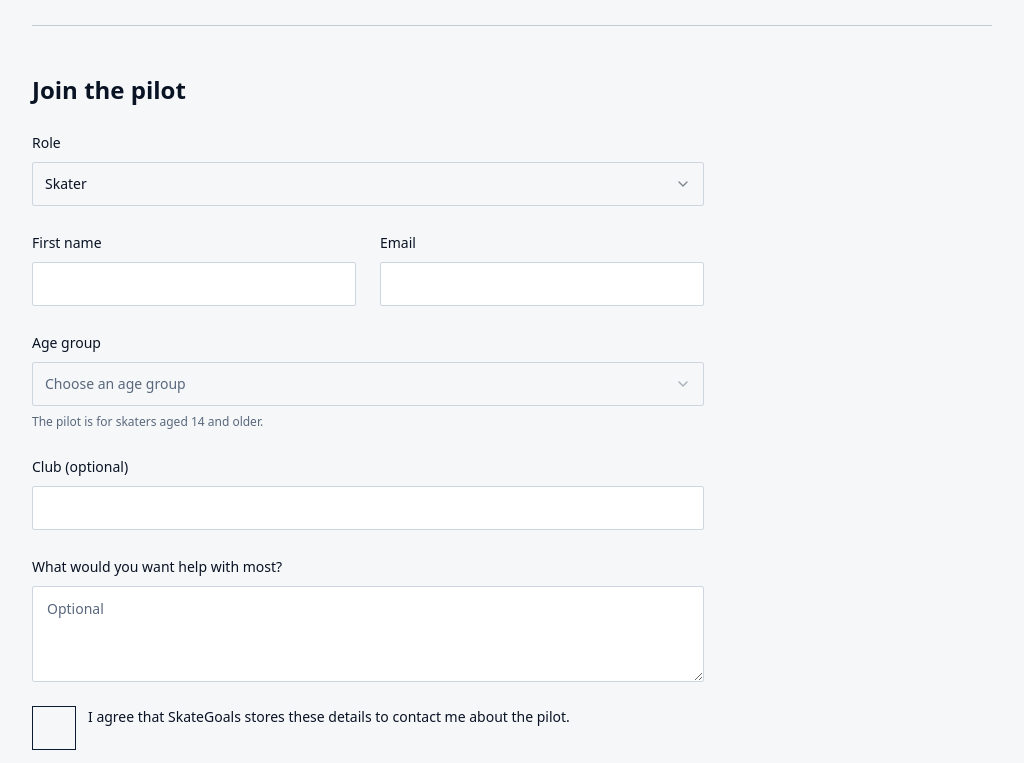
Test: no upper age limit in visible copy › offers an age group for adult skaters in the pilot form
(page scrolled)
Press the mouse on the dropdown labelled "Choose an age group" at (115,384), box [32,362,704,406]
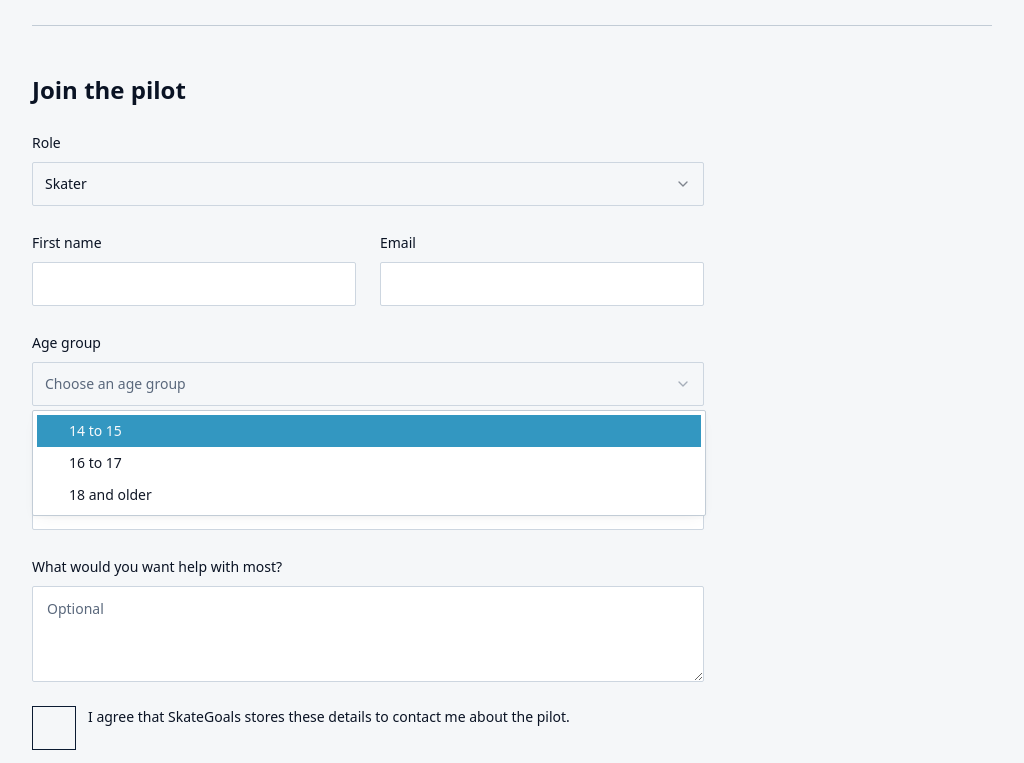
Expected: the option "18 and older" is shown, [69,485,152,504]
